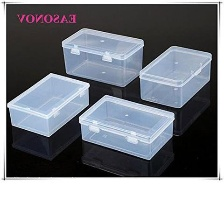plastic_box: (73, 91, 181, 164), (7, 68, 95, 140), (57, 23, 150, 91), (135, 39, 216, 111)
